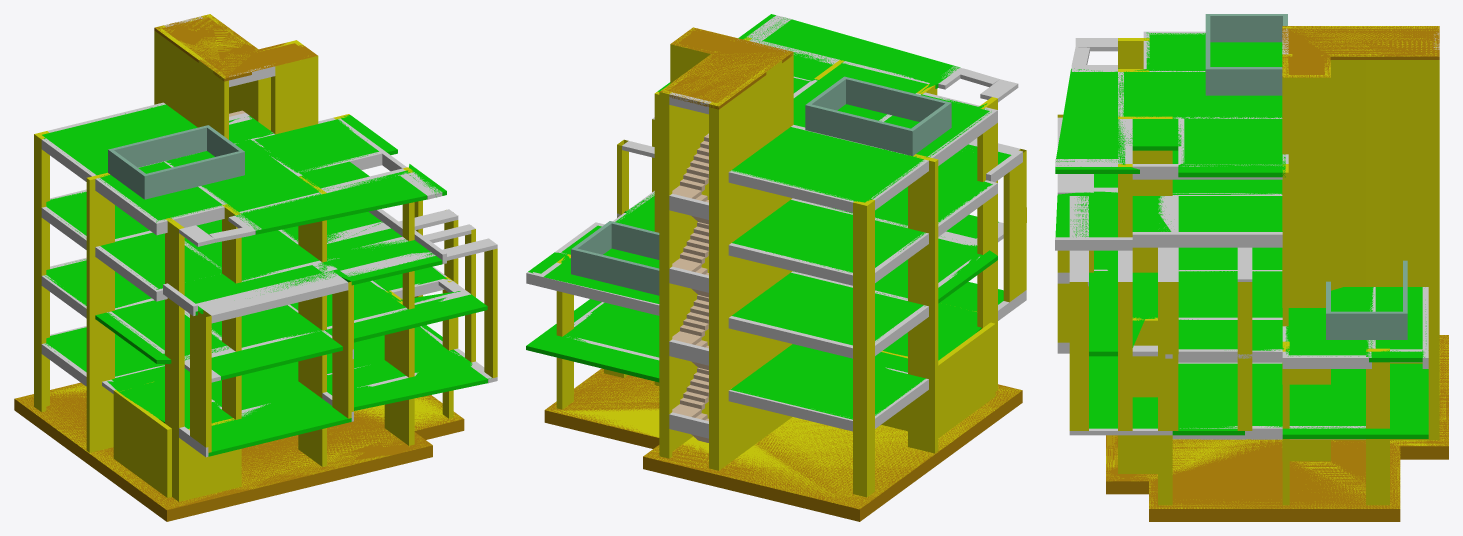
File: concrete_building_35.glb
The picture shows the model from 3 angles, left to right: view 1: azimuth 30°, elevation 25°; view 2: azimuth 150°, elevation 25°; view 3: azimuth 270°, elevation 25°; orthographic projection. The views are drawn at different scales.
Parts seen in each view (by area): view 1: STAT_SLABS_3D, STAT_COLUMNS_3D, STAT_BEAMS_3D, S-FNDN, S-FNDN-ANLY, A-WALL; view 2: STAT_COLUMNS_3D, STAT_SLABS_3D, S-FNDN, STAT_BEAMS_3D, S-FNDN-ANLY, A-WALL, S-STRS; view 3: STAT_SLABS_3D, STAT_COLUMNS_3D, S-FNDN, STAT_BEAMS_3D, A-WALL, S-FNDN-ANLY.
Part boxes in pixels (left/top/right/bottom): STAT_SLABS_3D: left=42, top=104, right=491, bottom=456; STAT_COLUMNS_3D: left=34, top=14, right=497, bottom=501; STAT_BEAMS_3D: left=41, top=16, right=497, bottom=457; S-FNDN: left=14, top=14, right=464, bottom=521; S-FNDN-ANLY: left=15, top=15, right=462, bottom=509; A-WALL: left=108, top=125, right=244, bottom=199; STAT_COLUMNS_3D: left=556, top=27, right=1026, bottom=497; STAT_SLABS_3D: left=526, top=14, right=1011, bottom=419; S-FNDN: left=544, top=27, right=1022, bottom=521; STAT_BEAMS_3D: left=526, top=15, right=1026, bottom=438; S-FNDN-ANLY: left=546, top=52, right=1021, bottom=509; A-WALL: left=571, top=76, right=951, bottom=295; S-STRS: left=672, top=134, right=708, bottom=442; STAT_SLABS_3D: left=1055, top=32, right=1428, bottom=438; STAT_COLUMNS_3D: left=1057, top=26, right=1439, bottom=505; S-FNDN: left=1106, top=26, right=1448, bottom=521; STAT_BEAMS_3D: left=1055, top=28, right=1439, bottom=439; A-WALL: left=1205, top=14, right=1407, bottom=339; S-FNDN-ANLY: left=1106, top=26, right=1448, bottom=508.
Size of the model in its own units: 17254 by 18100 by 16278.
